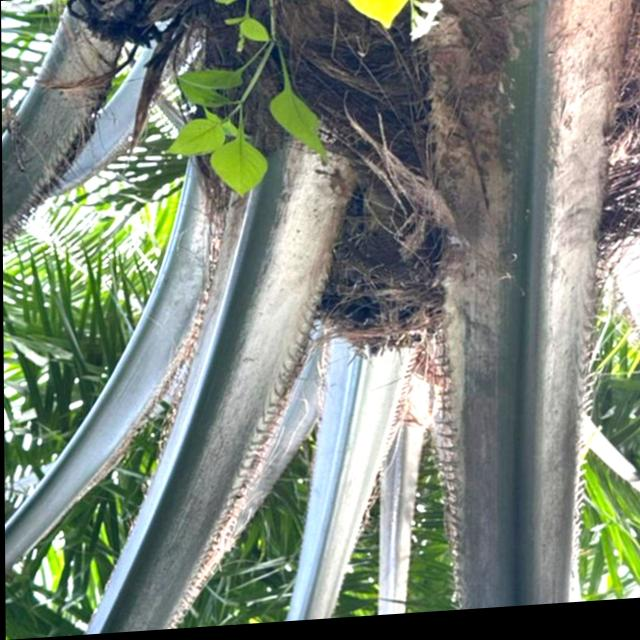unripe: (273, 146, 469, 372)
